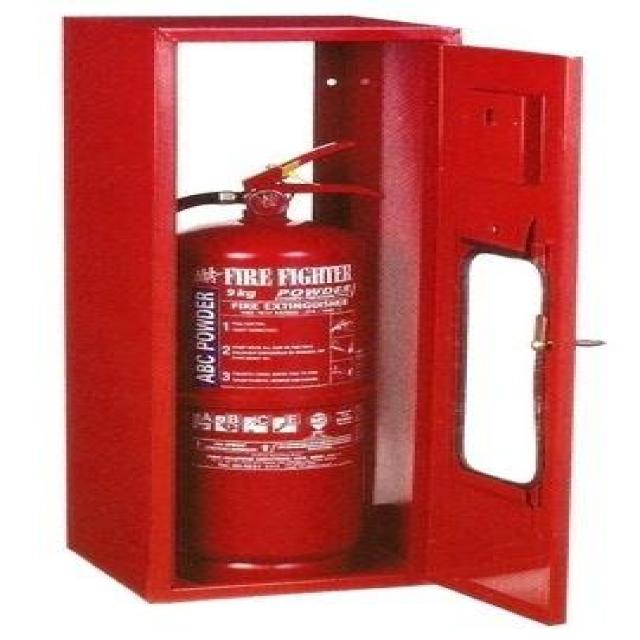fire_extinguisher: (94, 131, 392, 594)
